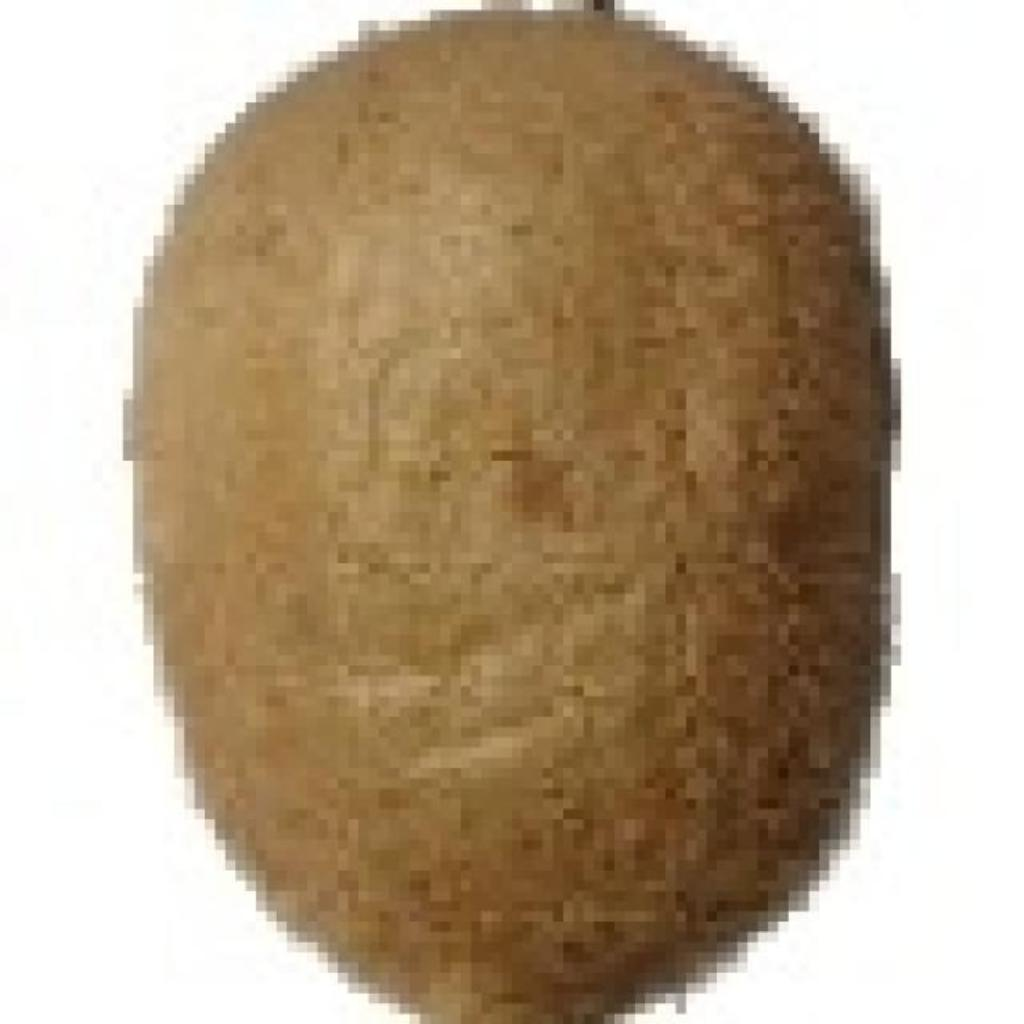kiwi: (123, 10, 870, 1004)
